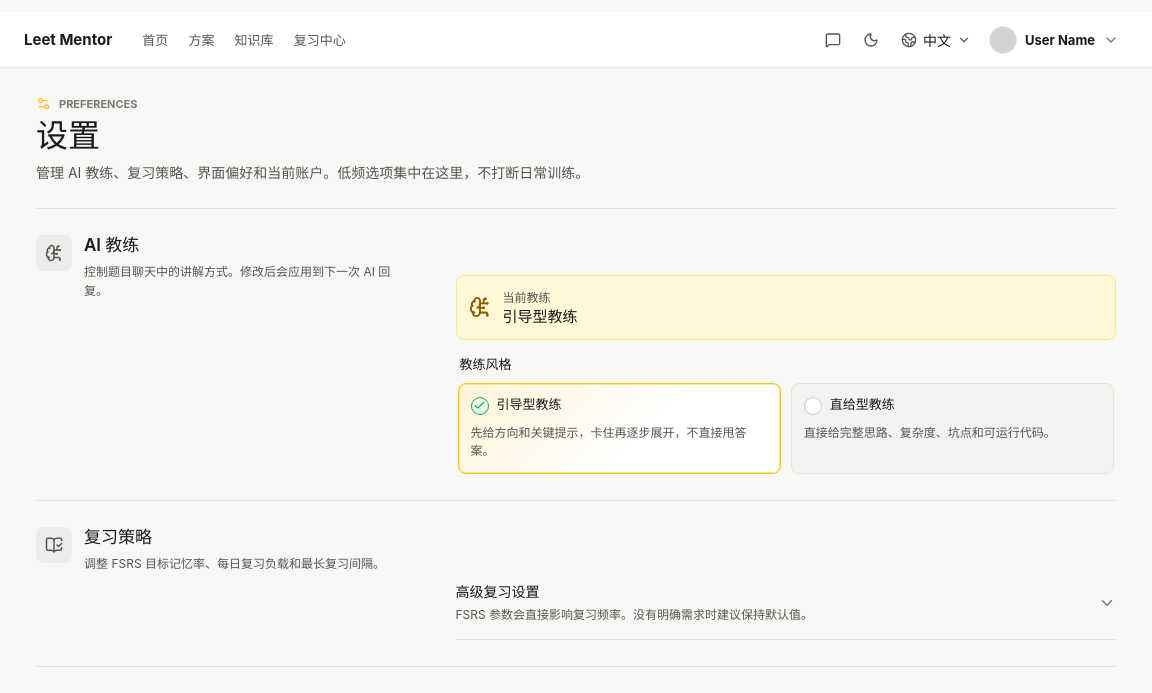
Test case: App › updates AI coach preferences from the settings page
The image size is (1152, 693).
Expected: the heading "设置" is shown, [36, 116, 100, 155]
Step 1. Click the button "直给型教练 直接给完整思路、复杂度、坑点和可运行代码。" → coordinates (952, 428), box [791, 383, 1114, 474]
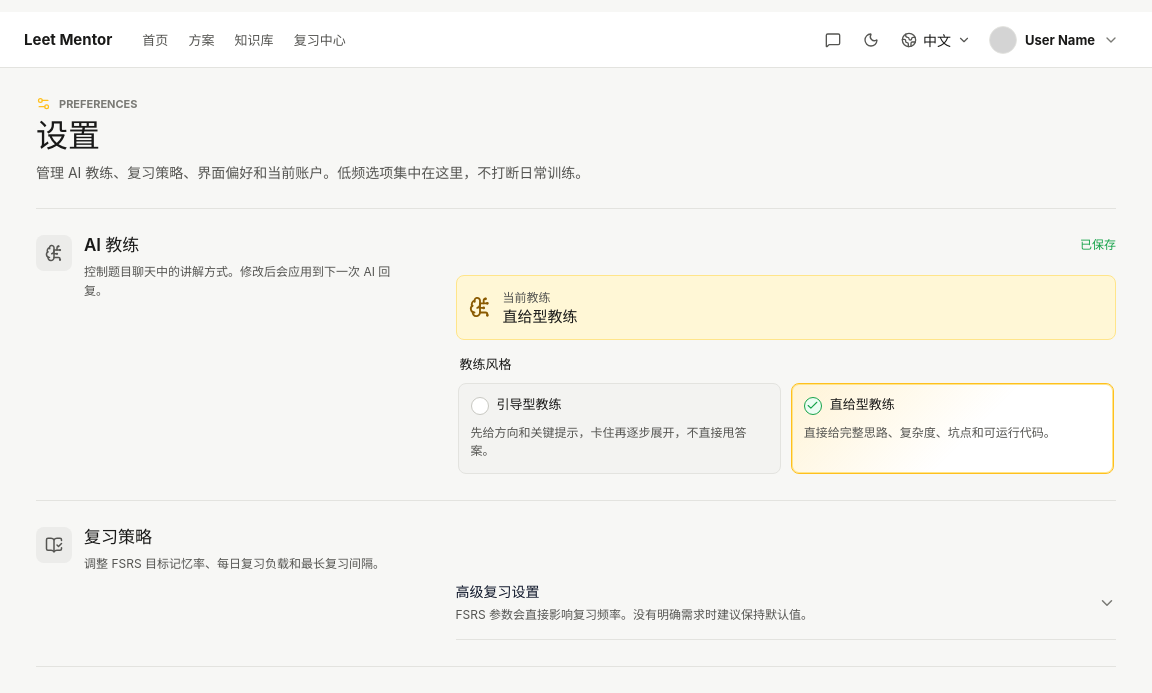
Expected: the text "已保存" is shown, [1080, 237, 1116, 252]
